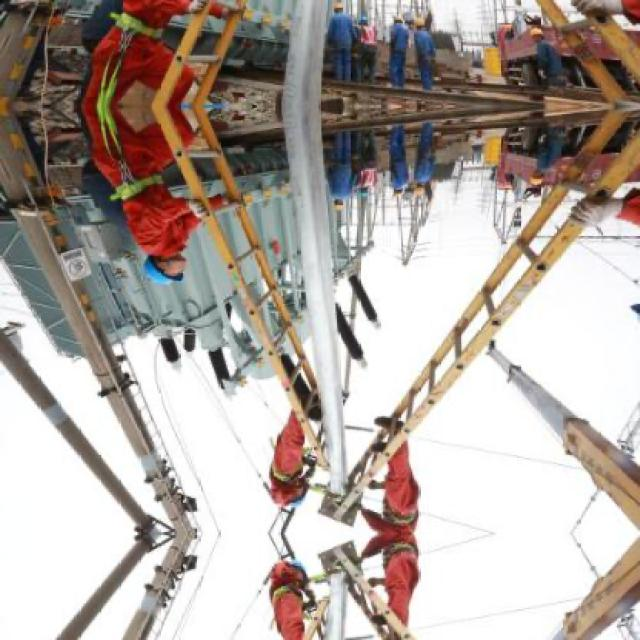con casco: (139, 256, 195, 310)
